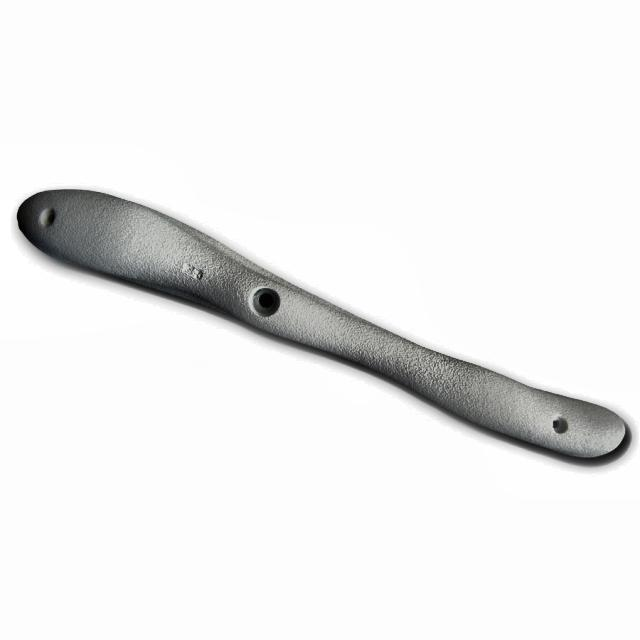Hold: (4, 160, 640, 487)
